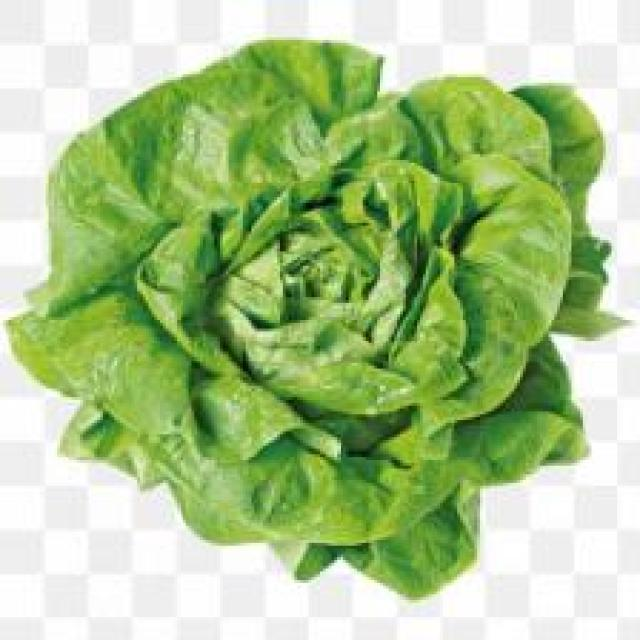Lettuce: (15, 32, 612, 602)
